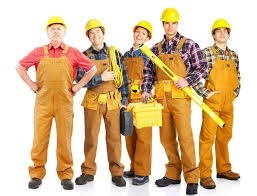helmet: (82, 17, 110, 35), (158, 6, 183, 25), (131, 19, 155, 37), (210, 18, 234, 33), (45, 14, 68, 29)
person with partial safety: (74, 17, 129, 188), (30, 14, 78, 192), (157, 4, 201, 191), (202, 18, 243, 189), (121, 19, 158, 187)
